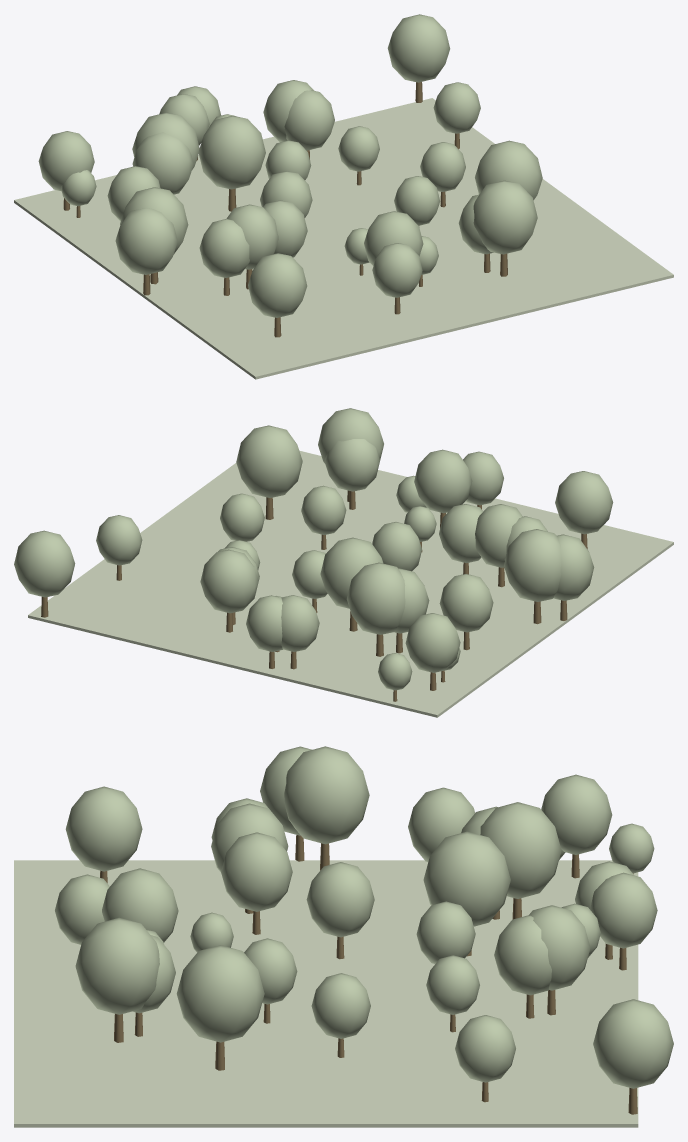
The picture shows the model from 3 angles, top to bottom: view 1: azimuth 30°, elevation 25°; view 2: azimuth 150°, elevation 25°; view 3: azimuth 270°, elevation 25°; orthographic projection. The views are drawn at different scales.
Parts seen in each view (by area): view 1: terrain, lod-near-5, lod-near-10, lod-near-24, lod-near-18, lod-near-9, lod-near-20, lod-near-17, lod-near-0, lod-near-31, lod-near-3, lod-near-1 (+18 smaller); view 2: terrain, lod-near-20, lod-near-26, lod-near-7, lod-near-24, lod-near-15, lod-near-9, lod-near-6, lod-near-31, lod-near-5, lod-near-8, lod-near-2 (+17 smaller); view 3: terrain, lod-near-20, lod-near-26, lod-near-10, lod-near-5, lod-near-24, lod-near-7, lod-near-9, lod-near-12, lod-near-31, lod-near-22, lod-near-23 (+17 smaller).
Boxes of the visible parts, x1,y1,x2,y2 form: terrain: (14,98,673,379); lod-near-5: (198,115,265,189); lod-near-10: (473,180,537,254); lod-near-24: (387,14,450,82); lod-near-18: (115,208,177,274); lod-near-9: (248,253,307,317); lod-near-20: (475,140,542,199); lod-near-17: (132,132,193,194); lod-near-0: (199,218,249,277); lod-near-31: (38,131,94,191); lod-near-3: (284,90,334,150); lod-near-1: (372,243,422,297); terrain: (28,450,673,717); lod-near-20: (236,425,302,497); lod-near-26: (504,529,561,601); lod-near-7: (346,562,405,634); lod-near-24: (14,530,75,597); lod-near-15: (200,549,258,613); lod-near-9: (555,471,613,534); lod-near-6: (414,449,472,513); lod-near-31: (405,613,460,672); lod-near-5: (320,537,383,608); lod-near-8: (439,574,493,632); lod-near-2: (324,439,379,491); terrain: (14,860,638,1127); lod-near-20: (176,945,264,1042); lod-near-26: (284,746,369,844); lod-near-10: (75,917,159,1014); lod-near-5: (423,831,510,926); lod-near-24: (593,999,673,1088); lod-near-7: (480,802,561,898); lod-near-9: (65,786,142,871); lod-near-12: (221,832,292,911); lod-near-31: (541,774,612,854); lod-near-22: (306,862,374,937); lod-near-23: (590,872,657,948).
Size of the model in its own units: 34.83 by 7.16 by 33.83.
